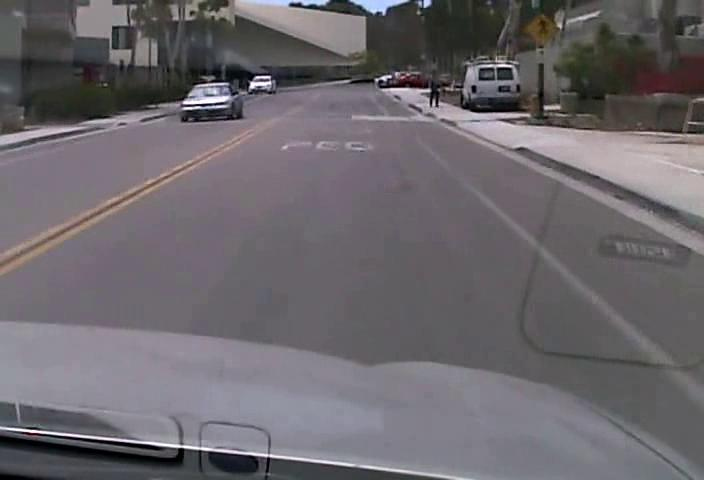pedestrianCrossing: (523, 10, 560, 45)
